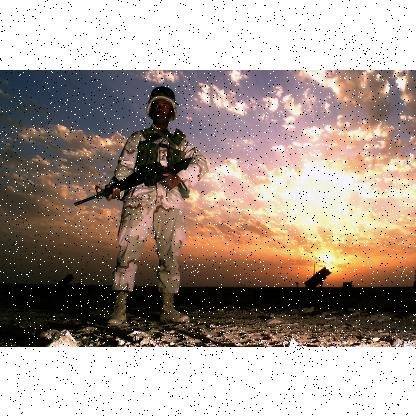gun: (72, 153, 200, 209)
